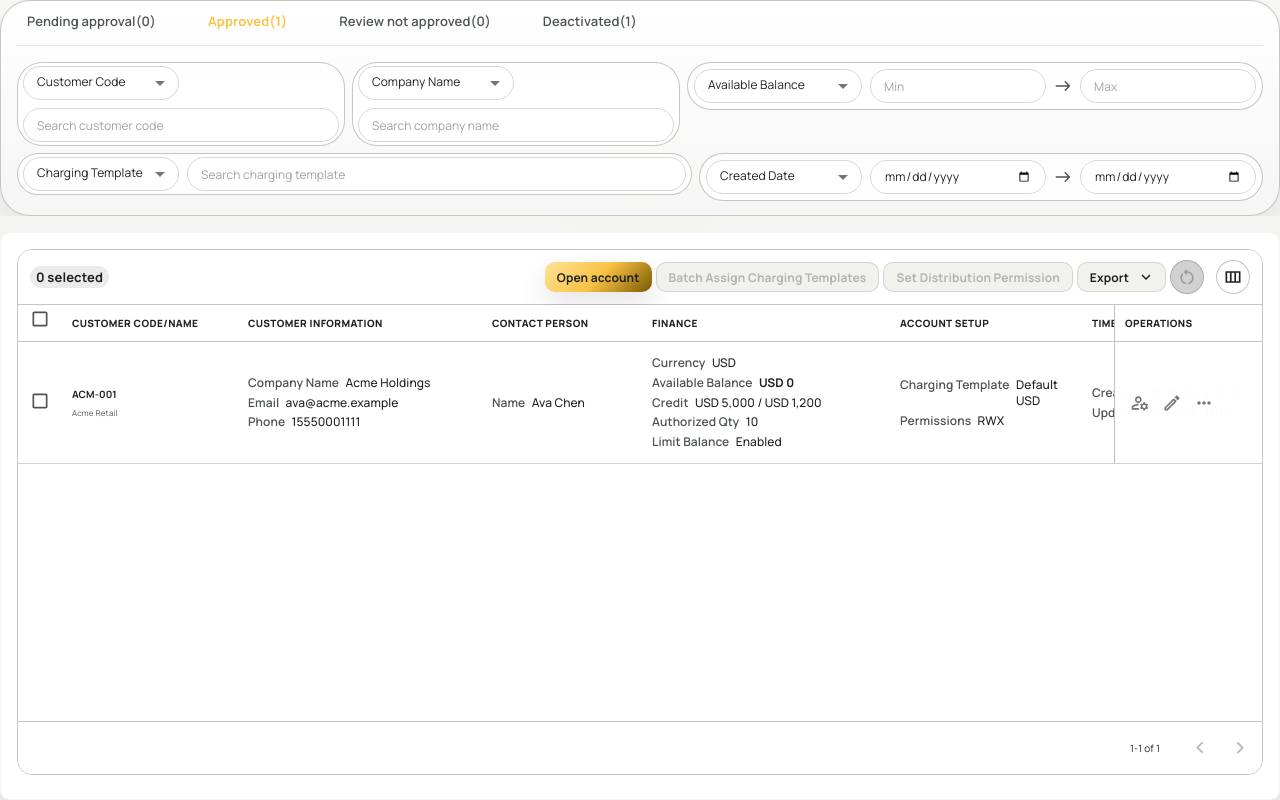
Test case: ClientsPage › renders the client workbench, filters by lifecycle bucket, and opens the editor dialog
Expected: the text "Acme Retail" is shown, [72,407,118,418]
Expected: the button "Open account" is shown, [545,262,652,292]
Step 1. Click the tab "Deactivated(1)" → (590, 21), box [533,11,647,31]
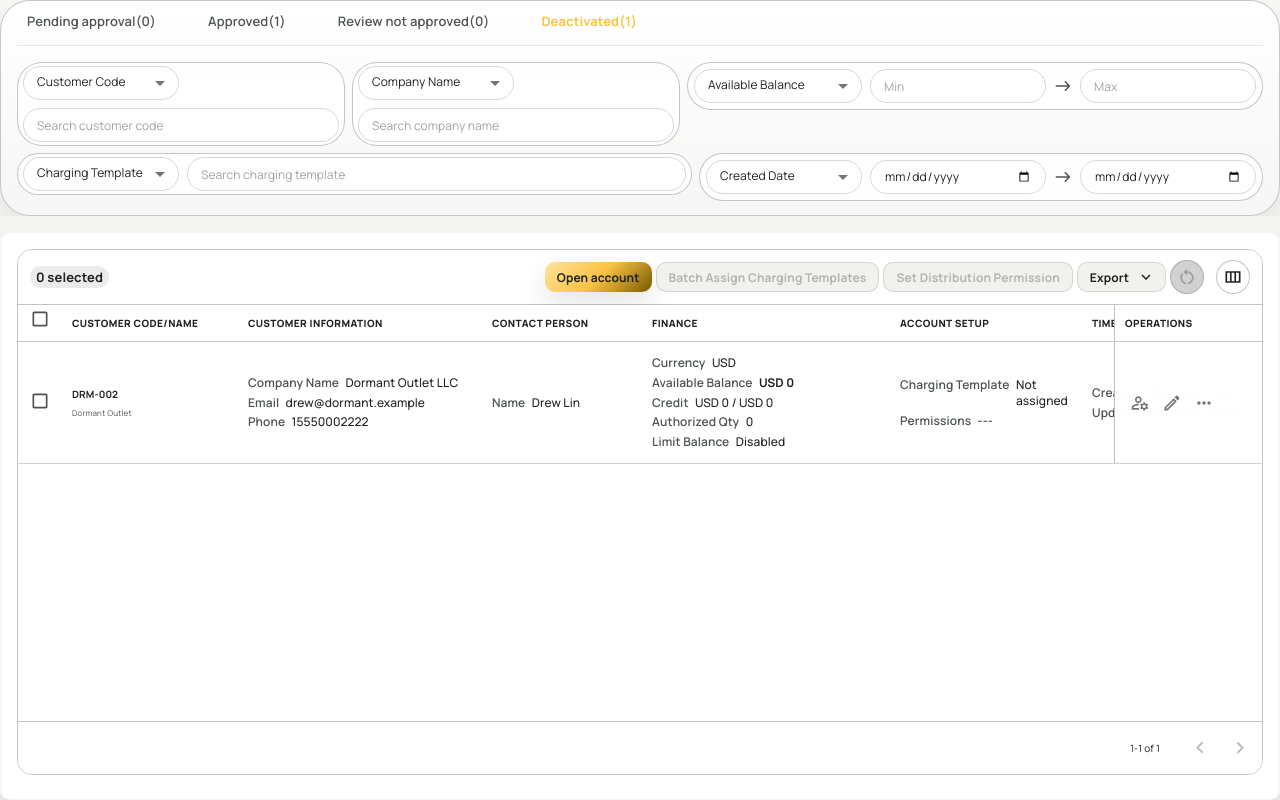
Result: the text "Dormant Outlet" is shown at [72,407,132,418]
Result: the text "Acme Retail" is gone
Step 2. Click the button named "Edit client Dormant Outlet" → (1172, 403), box [1157,388,1187,418]
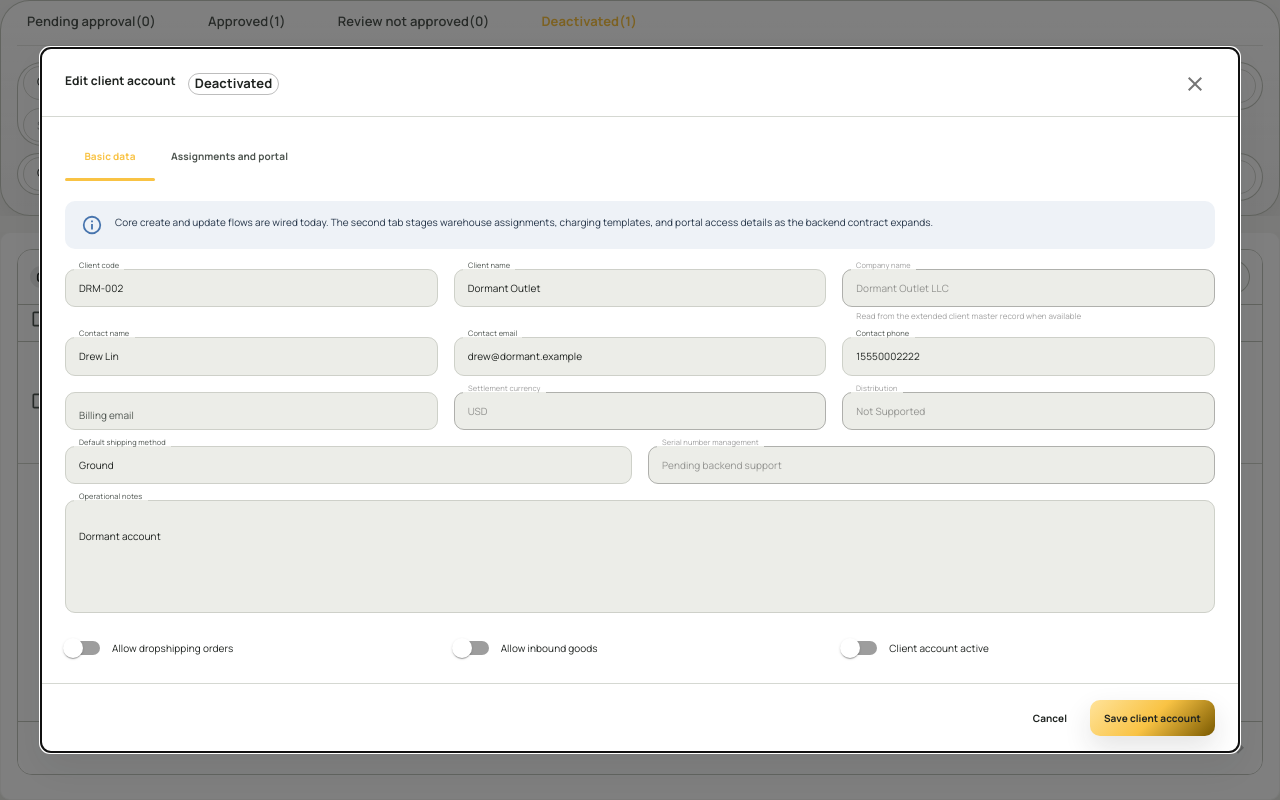
Result: the heading "Edit client account" is shown at [65,73,176,95]
Result: the field showing "DRM-002" is shown at [65,269,438,307]
Step 3. Click the tab "Assignments and portal" → (230, 157), box [155,133,304,181]
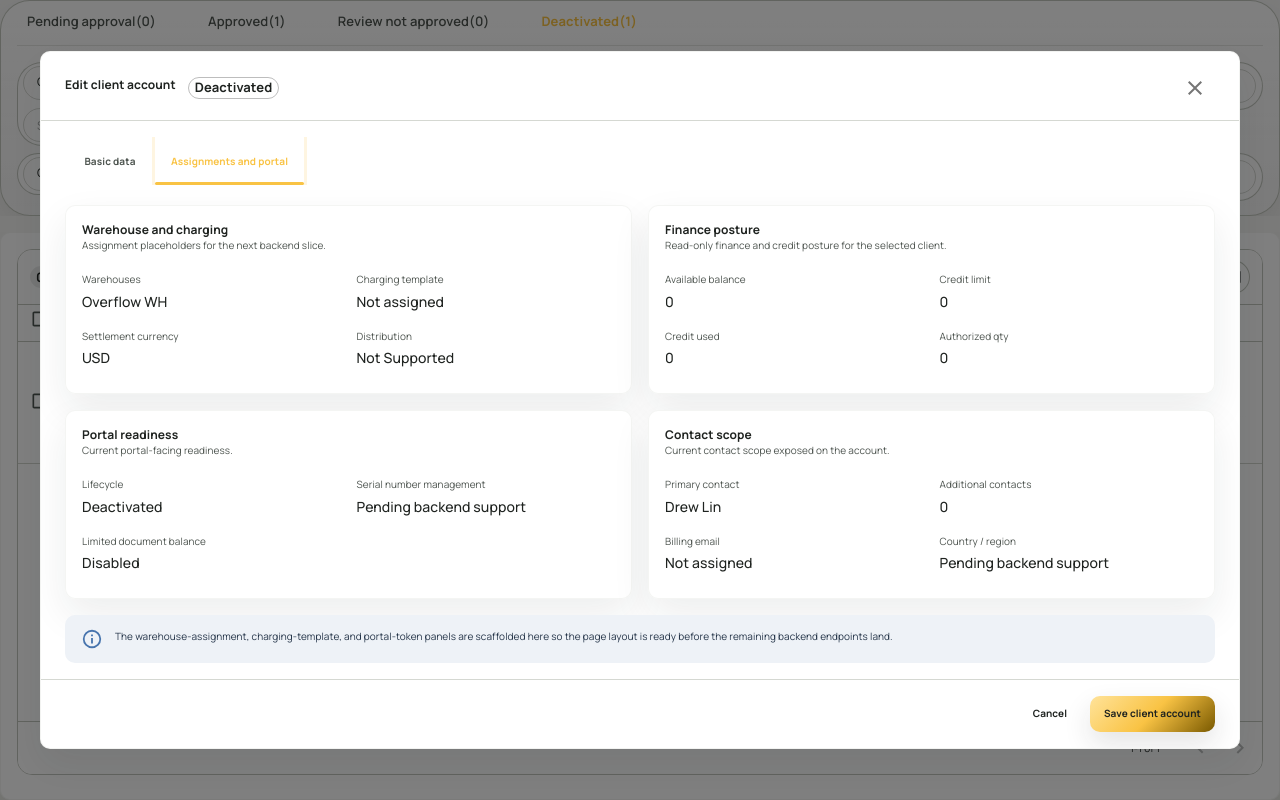
Result: the heading "Warehouse and charging" is shown at [82,221,228,238]
Result: the heading "Finance posture" is shown at [665,221,760,238]
